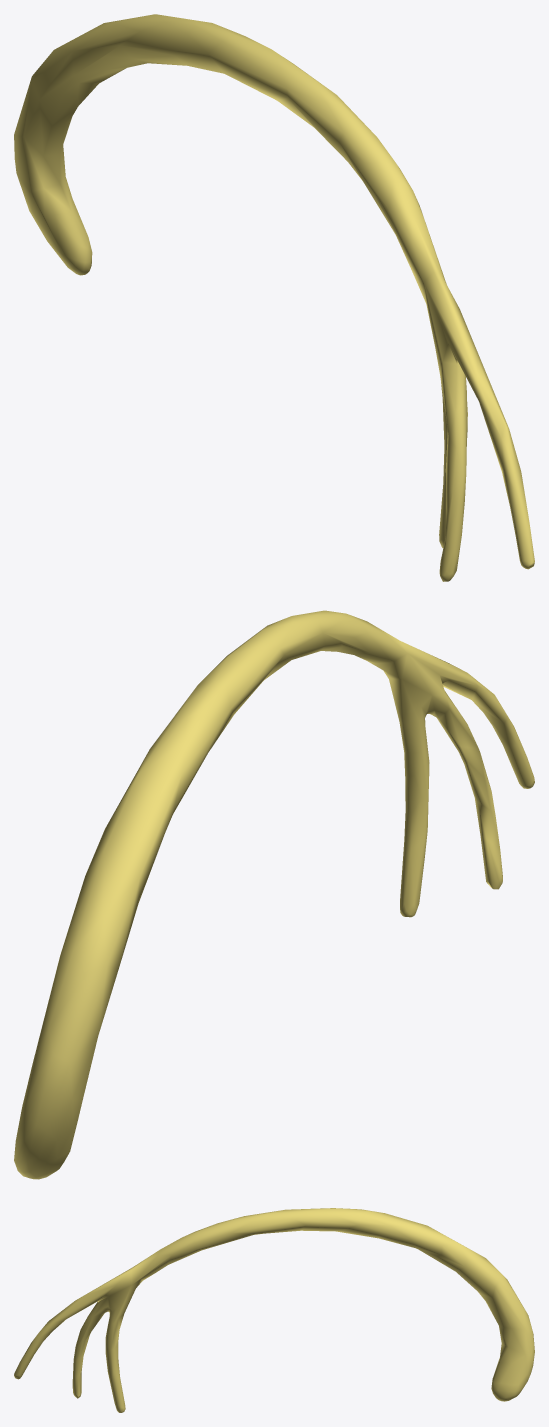
Rendered from stria-medullaris-thalami-r.glb.
3 views of the same model, one above another, from view 1: azimuth 30°, elevation 25°; view 2: azimuth 150°, elevation 25°; view 3: azimuth 270°, elevation 25° (orthographic). The views are drawn at different scales.
Parts seen in each view (by area): view 1: Stria medullaris thalami.r; view 2: Stria medullaris thalami.r; view 3: Stria medullaris thalami.r.
Boxes of the visible parts, <box> form: Stria medullaris thalami.r: <box>14,14,534,581</box>; Stria medullaris thalami.r: <box>14,610,534,1179</box>; Stria medullaris thalami.r: <box>14,1208,534,1412</box>.
Bounding box in the file's own units: 0.00369 × 0.0151 × 0.0357.
